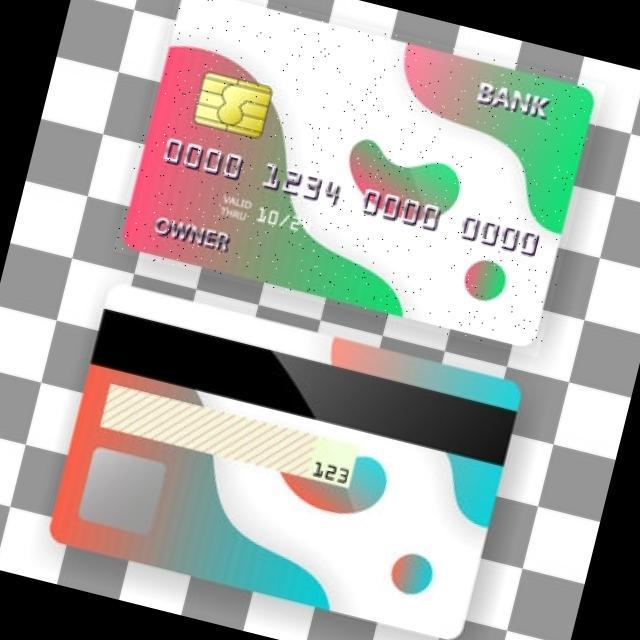payment_card: (49, 282, 519, 640), (122, 1, 592, 347)
